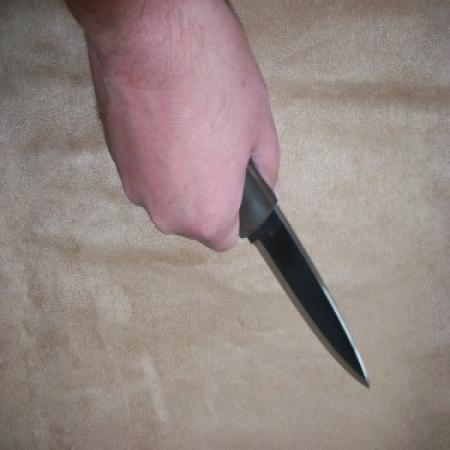long weapon: (186, 132, 378, 402)
